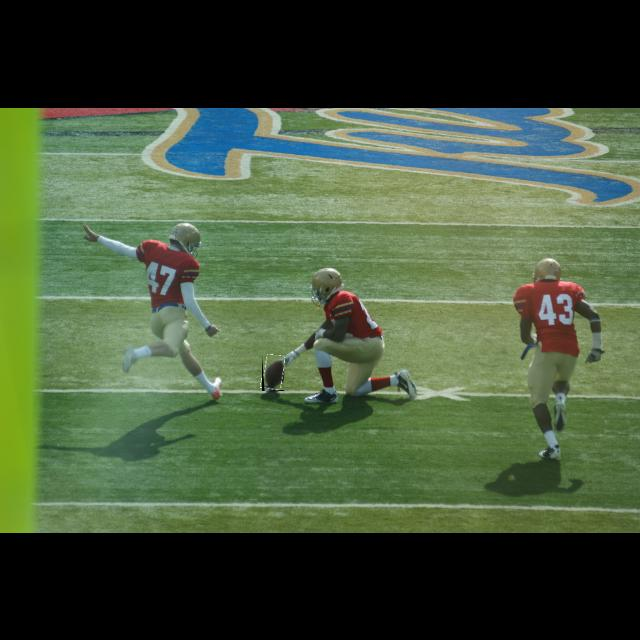Football: (262, 355, 284, 391)
